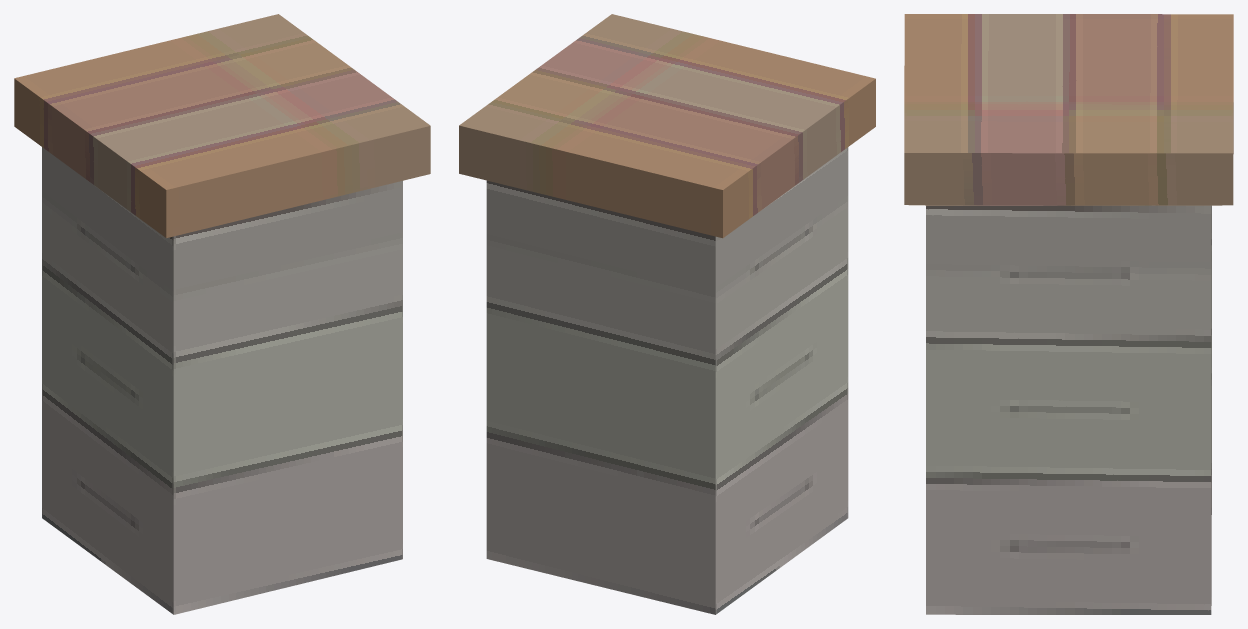
Rendered from drawer.glb.
The picture shows the model from 3 angles, left to right: view 1: azimuth 30°, elevation 25°; view 2: azimuth 150°, elevation 25°; view 3: azimuth 270°, elevation 25°; orthographic projection. The views are drawn at different scales.
Visible parts, largest first — view 1: Props.267; view 2: Props.267; view 3: Props.267.
Boxes of the visible parts, x1,y1,x2,y2 form: Props.267: (14,14,430,614); Props.267: (459,14,875,614); Props.267: (904,14,1233,614).
Bounding box in the file's own units: 0.2214 × 0.349 × 0.2214.
1 material, 1 textured.
